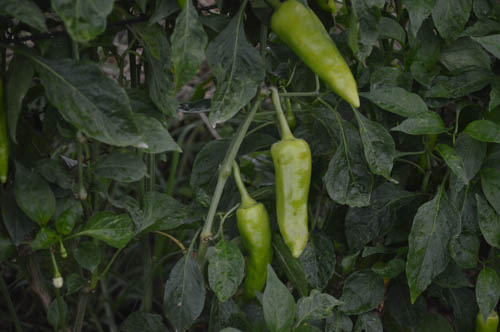ChiliPepper: (275, 4, 361, 108), (272, 140, 311, 257), (241, 204, 273, 296)
